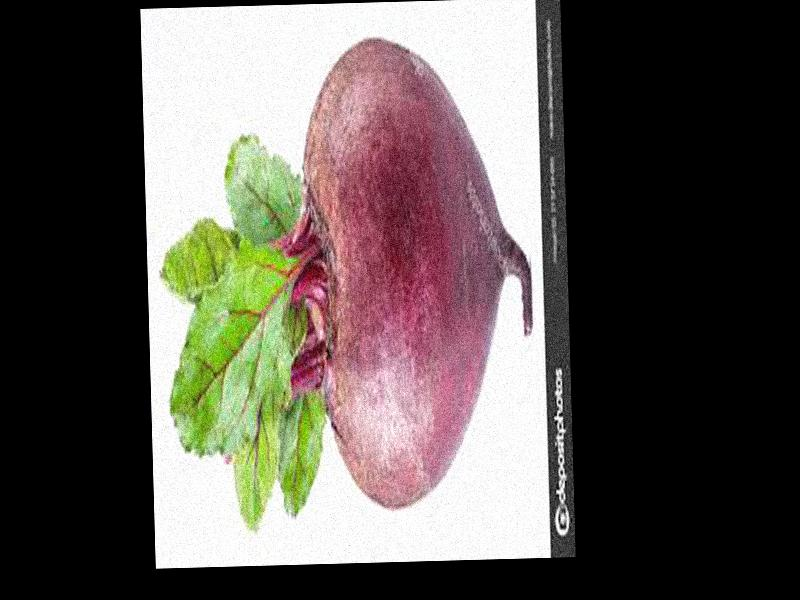Beet: (154, 33, 535, 532)
